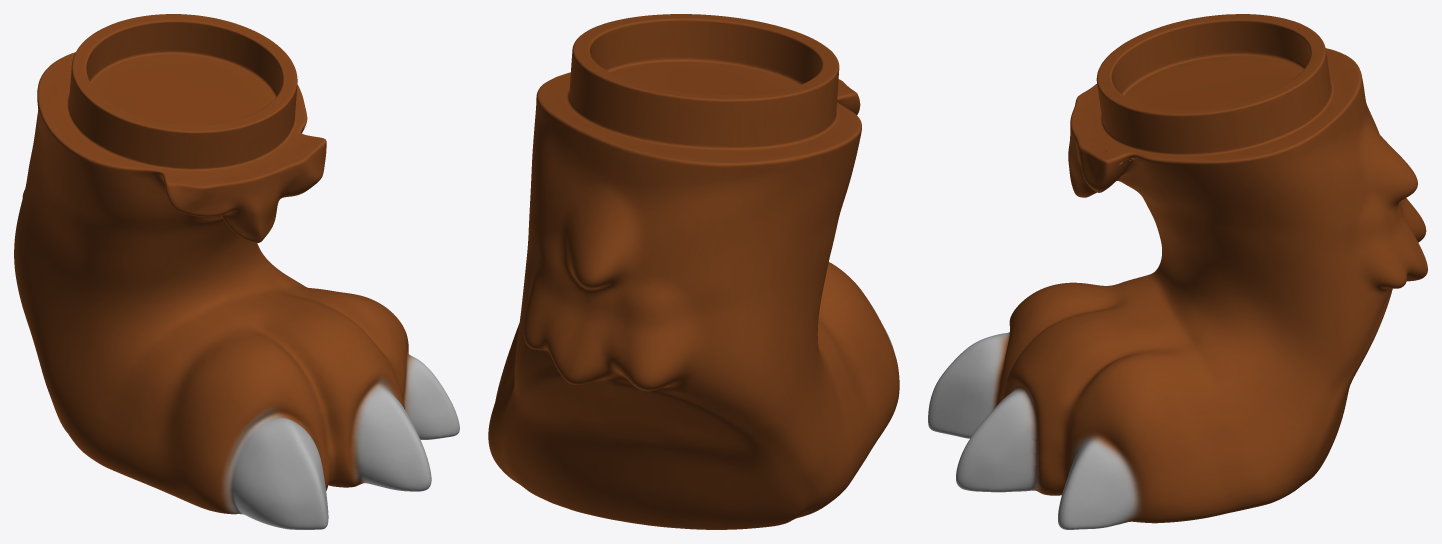
The model's file is Patte_Lion_lft.glb.
The picture shows the model from 3 angles, left to right: view 1: azimuth 30°, elevation 25°; view 2: azimuth 150°, elevation 25°; view 3: azimuth 270°, elevation 25°; orthographic projection. The views are drawn at different scales.
Parts seen in each view (by area): view 1: Patte_Lion_lft; view 2: Patte_Lion_lft; view 3: Patte_Lion_lft.
Part boxes in pixels (<box>): Patte_Lion_lft: <box>14,14,459,529</box>; Patte_Lion_lft: <box>488,14,899,529</box>; Patte_Lion_lft: <box>928,14,1427,529</box>.
Size of the model in its own units: 2.06 by 2.25 by 2.68.
